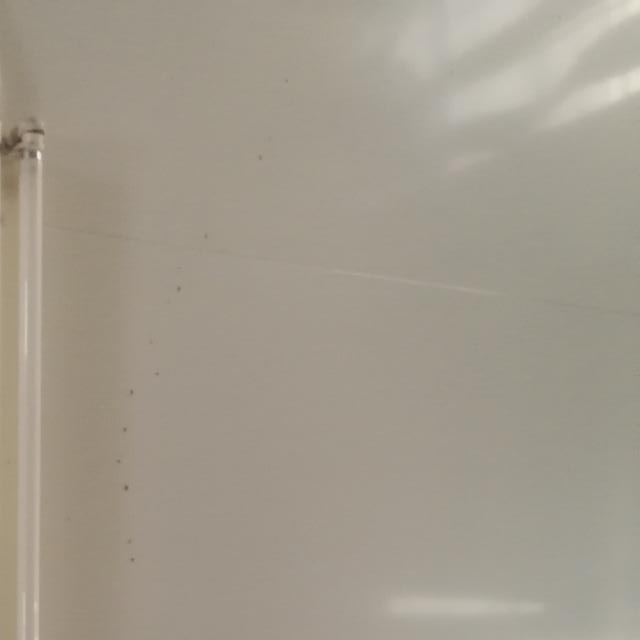fluorescent tube: (0, 98, 149, 640)
